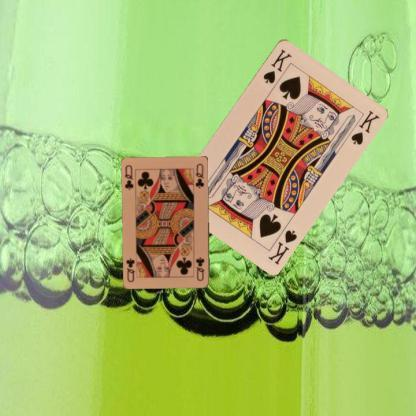Ks: (260, 46, 293, 86), (265, 226, 298, 266)
Qc: (123, 162, 135, 192), (194, 254, 206, 282)
